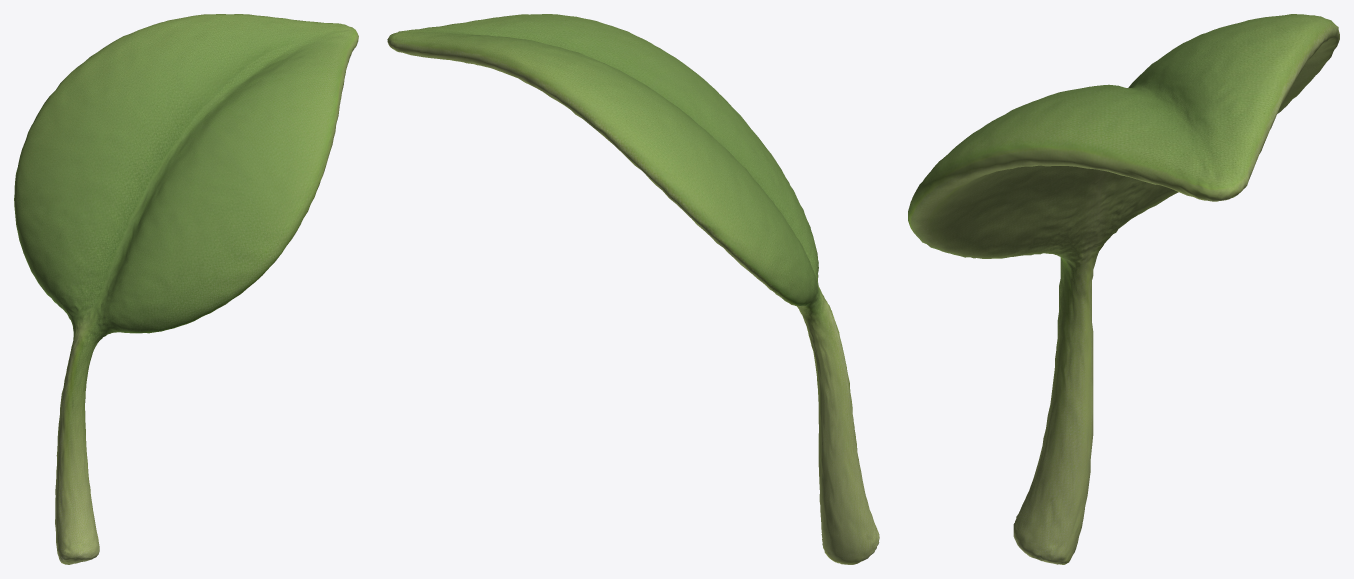
Rendered from mem_ac_leaf.fbx.
3 views of the same model, side by side, from view 1: azimuth 30°, elevation 25°; view 2: azimuth 150°, elevation 25°; view 3: azimuth 270°, elevation 25° (orthographic). The views are drawn at different scales.
Parts seen in each view (by area): view 1: tripo_node_74f0c754-f90c-47aa-b9a5-0352d80bb283; view 2: tripo_node_74f0c754-f90c-47aa-b9a5-0352d80bb283; view 3: tripo_node_74f0c754-f90c-47aa-b9a5-0352d80bb283.
Part boxes in pixels (x1=…): tripo_node_74f0c754-f90c-47aa-b9a5-0352d80bb283: x1=14, y1=14, x2=358, y2=564; tripo_node_74f0c754-f90c-47aa-b9a5-0352d80bb283: x1=387, y1=14, x2=879, y2=564; tripo_node_74f0c754-f90c-47aa-b9a5-0352d80bb283: x1=908, y1=14, x2=1339, y2=564.
Size of the model in its own units: 0.8457 by 0.998 by 0.5918.
Materials: 1 (1 with a texture image).
